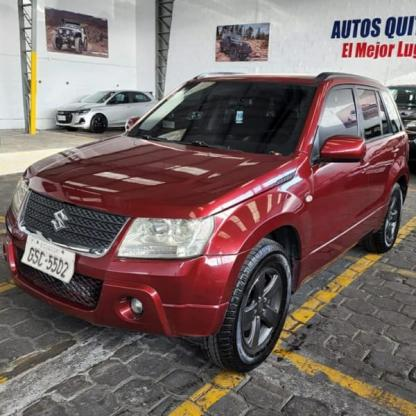Placa: (19, 235, 78, 284)
